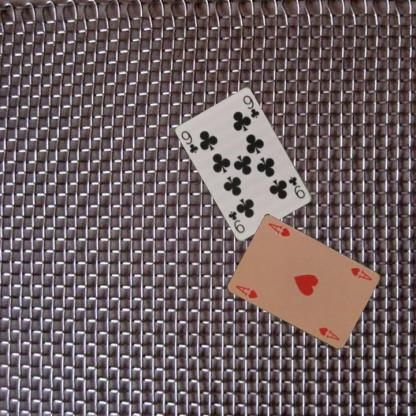9c: (178, 128, 200, 155), (286, 174, 306, 200)
Ah: (233, 282, 260, 300), (349, 265, 374, 282)
